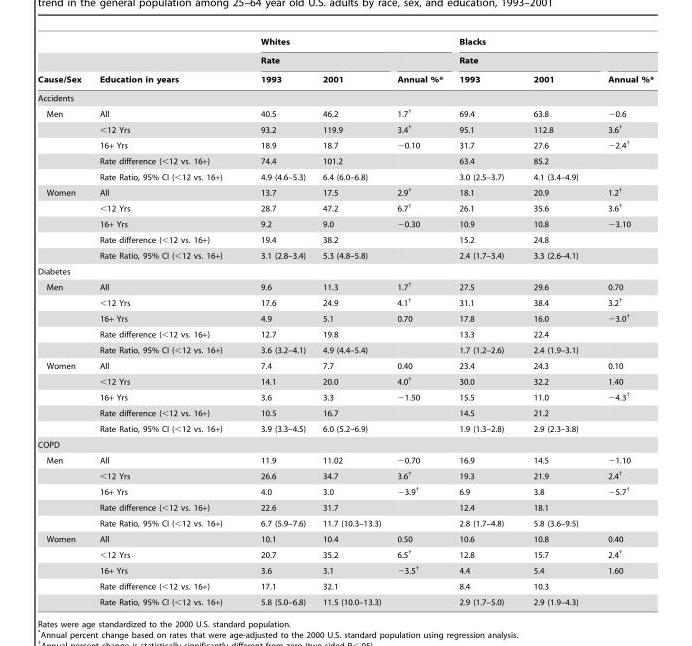table: (37, 37, 653, 606)
table column: (89, 37, 240, 606), (313, 37, 388, 606), (518, 37, 592, 606), (240, 37, 313, 606), (450, 37, 518, 606), (388, 37, 450, 606), (592, 37, 653, 606), (37, 37, 89, 606)
table column header: (37, 37, 653, 88)
table projected row header: (37, 88, 653, 104), (37, 436, 653, 452), (37, 263, 653, 278)
table row: (37, 50, 653, 69), (37, 69, 653, 88), (37, 246, 653, 263), (37, 341, 653, 358), (37, 514, 653, 531), (37, 88, 653, 104), (37, 104, 653, 120), (37, 120, 653, 136), (37, 136, 653, 152), (37, 152, 653, 168), (37, 183, 653, 199), (37, 199, 653, 215), (37, 215, 653, 231), (37, 293, 653, 309), (37, 309, 653, 325), (37, 325, 653, 341), (37, 372, 653, 388), (37, 388, 653, 404), (37, 404, 653, 420), (37, 420, 653, 436), (37, 436, 653, 452), (37, 482, 653, 498), (37, 498, 653, 514), (37, 545, 653, 561), (37, 561, 653, 577), (37, 577, 653, 593), (37, 168, 653, 183), (37, 231, 653, 246), (37, 263, 653, 278), (37, 278, 653, 293), (37, 452, 653, 467), (37, 467, 653, 482), (37, 358, 653, 372), (37, 531, 653, 545), (37, 37, 653, 50), (37, 593, 653, 606)
table spanning cell: (89, 37, 240, 88), (37, 183, 89, 263), (37, 278, 89, 358), (37, 104, 89, 183), (37, 452, 89, 531), (37, 358, 89, 436), (37, 531, 89, 606), (240, 50, 388, 69), (240, 37, 450, 50), (450, 50, 592, 69), (37, 37, 89, 88), (450, 37, 653, 50), (388, 50, 450, 88), (592, 50, 653, 88)
